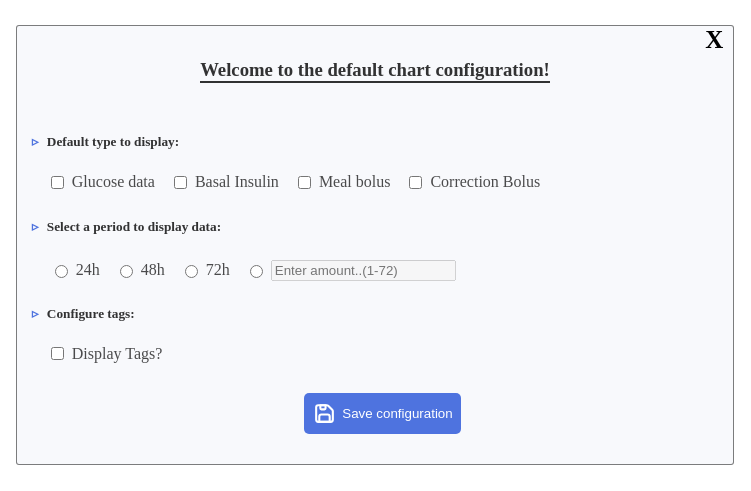
Test: Testing the modal component › test that errors are comming up when not selecting any checkbox button
The width and height of the screenshot is (751, 491).
Click the button: coordinates (382, 414) 304,393 -> 461,434
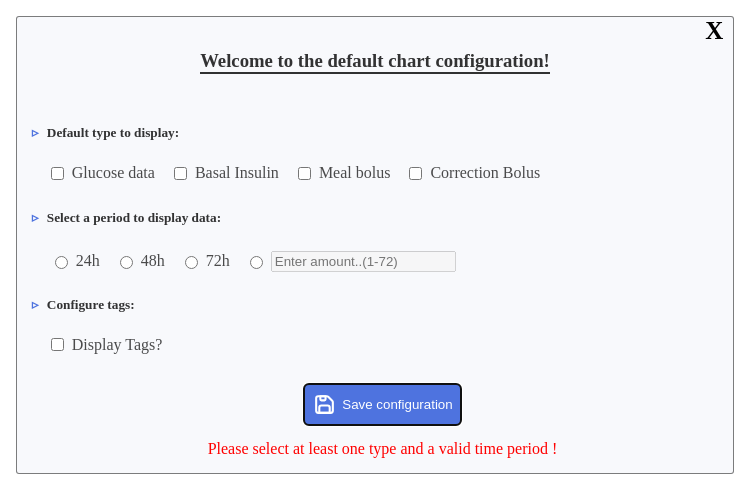
Now the text "Please select at least one type and a valid time period !" is shown, box 208,440 -> 557,457
